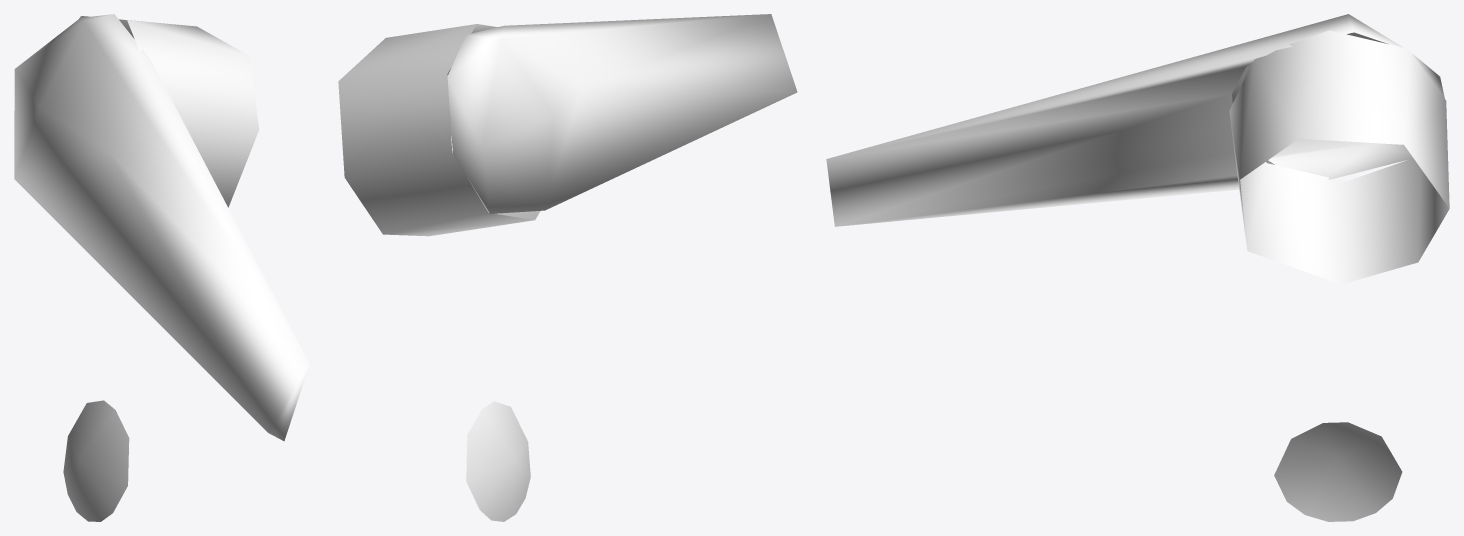
3 views of the same model, side by side, from view 1: azimuth 30°, elevation 25°; view 2: azimuth 150°, elevation 25°; view 3: azimuth 270°, elevation 25° (orthographic). The views are drawn at different scales.
Size of the model in its own units: 0.0603 by 0.1407 by 0.1554.
1 material, 1 textured.
